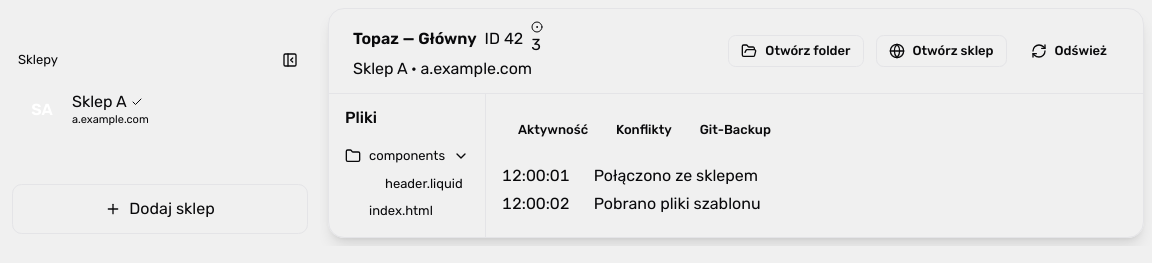
HubScreen › switches to the conflicts tab and shows its placeholder
The image size is (1152, 263).
Click the tab "Konflikty" at (644, 130), box x1=604 y1=114 x2=684 y2=146
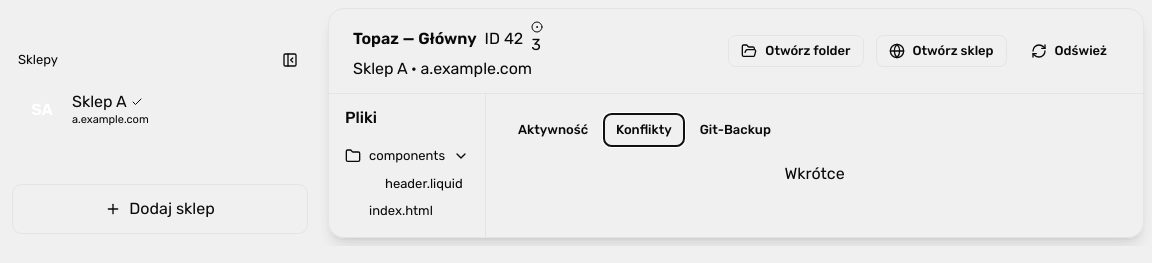
Result: the text "Wkrótce" is shown at x1=784 y1=162 x2=845 y2=186
Result: the text "Połączono ze sklepem" is gone
